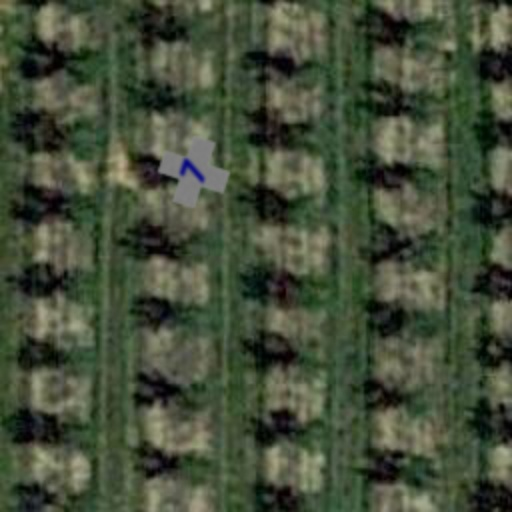cross: (150, 128, 238, 216)
